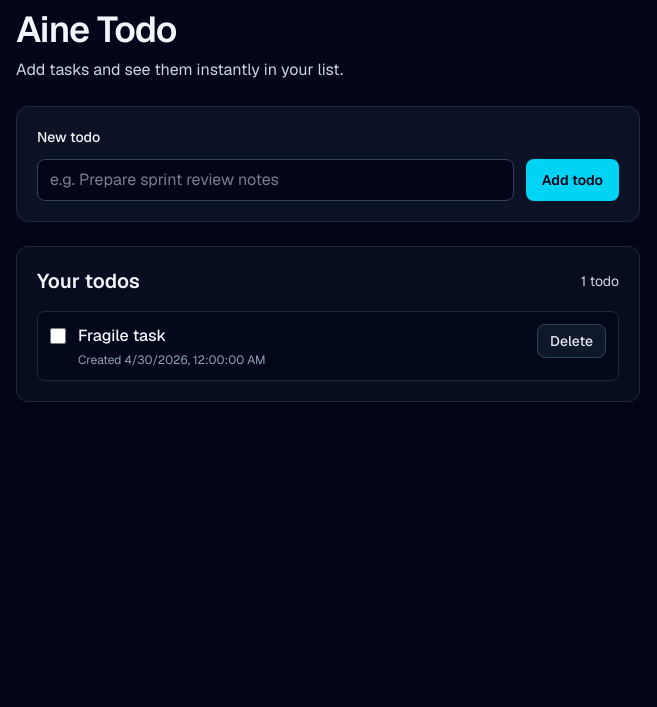
Home page todo flow › shows non-blocking error when toggle completion fails
This screenshot has width=657, height=707.
Check: the text "Fragile task" is shown, box [78,325,166,346]
Click the checkbox named "Mark complete: Fragile task": (58,336) [50,328,66,344]
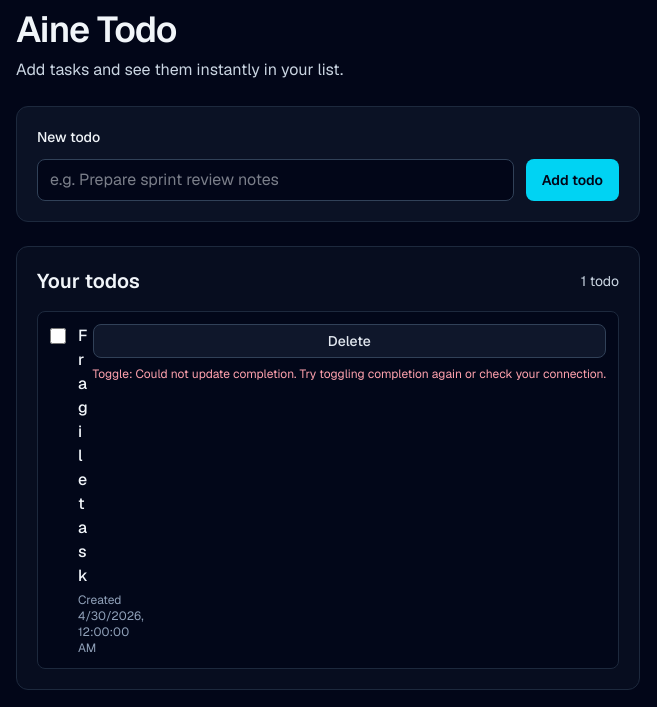
Check: the text "Toggle: Could not update completion. Try toggling completion again or check your connection." is shown, box [92,366,606,382]
